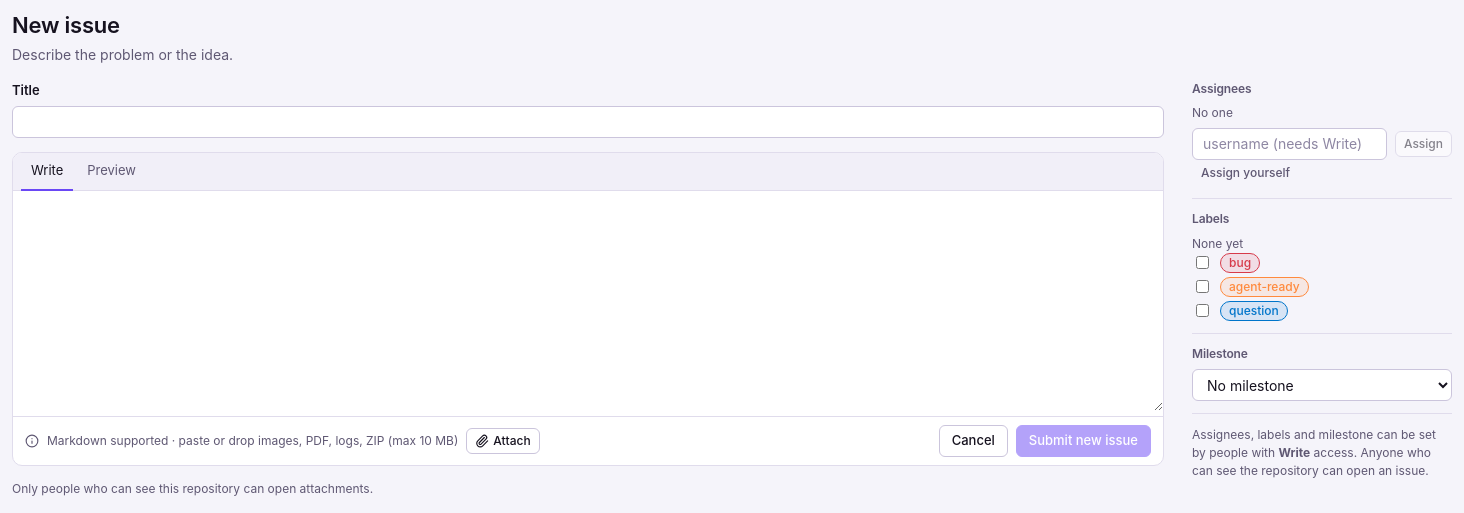
Test: NewIssuePage › suggerimenti di @menzione › @org/prefisso cerca solo tra i team dell'organizzazione
Expected: the field labelled "Title" is shown, [12,106,1164,138]
Type "@acme/de" into the text box named "Description".
click(588, 300); type("@acme/de")  # box [13,190,1163,410]
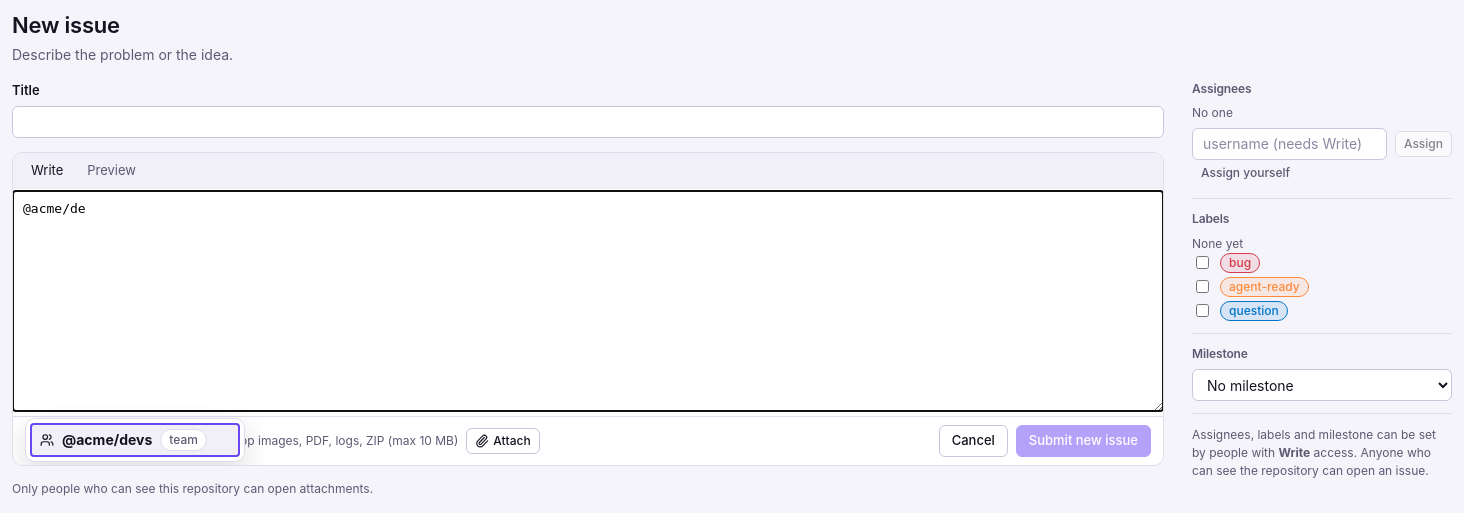
Result: the number of options is 1 at [30,422,240,456]
Result: the list shows "@acme/devs" at [25,418,245,462]
